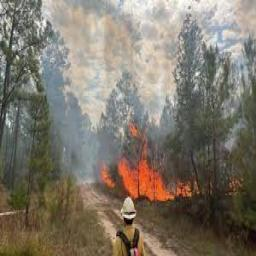Low smoke: (27, 0, 256, 166)
Small fire: (87, 138, 214, 203)
